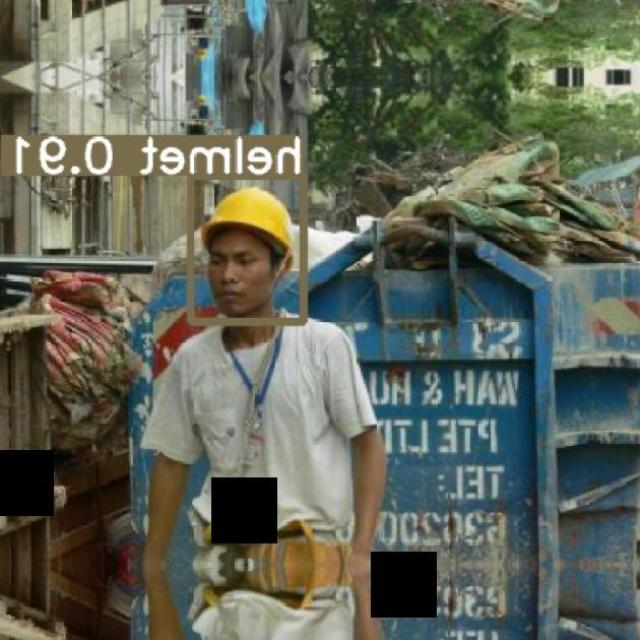helmet: (201, 186, 295, 266)
